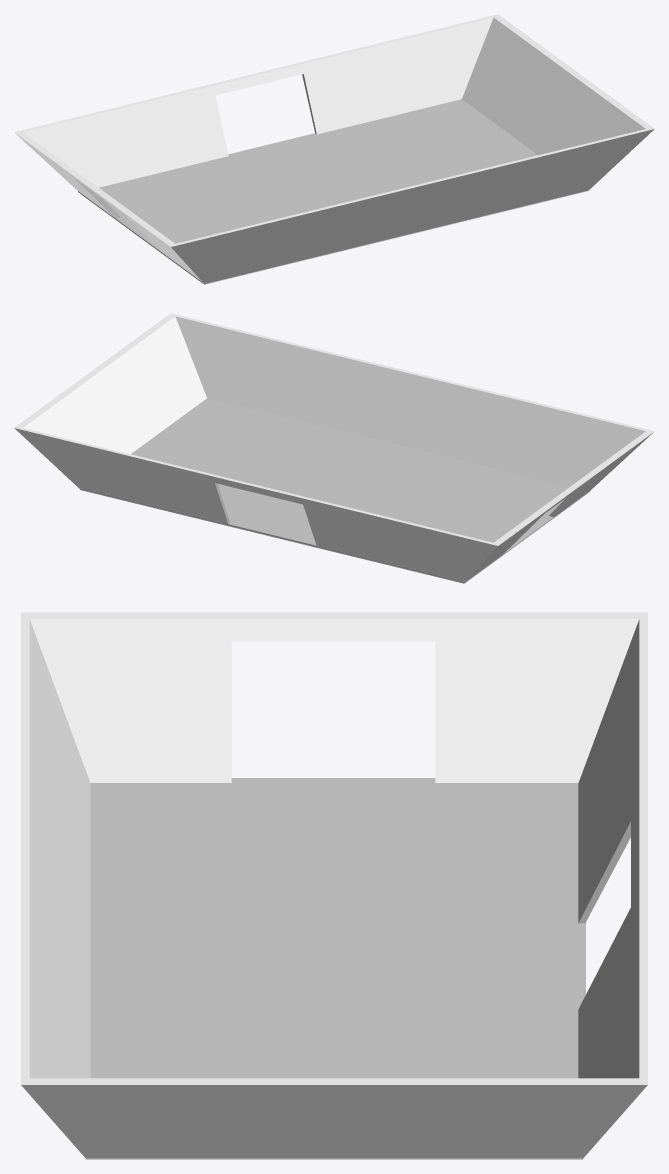
File: BottomRight.fbx
3 renders of one model, top to bottom at view 1: azimuth 30°, elevation 25°; view 2: azimuth 150°, elevation 25°; view 3: azimuth 270°, elevation 25°, orthographic. The views are drawn at different scales.
Visible parts, largest first — view 1: Room7, Piso1; view 2: Room7, Piso1; view 3: Room7, Piso1.
Boxes of the visible parts, x1,y1,x2,y2 form: Room7: (14,14,654,284); Piso1: (78,99,537,282); Room7: (14,313,654,583); Piso1: (80,398,590,582); Room7: (21,612,647,1159); Piso1: (90,778,585,1078).
Bounding box in the file's own units: 4100 × 500 × 2300.
